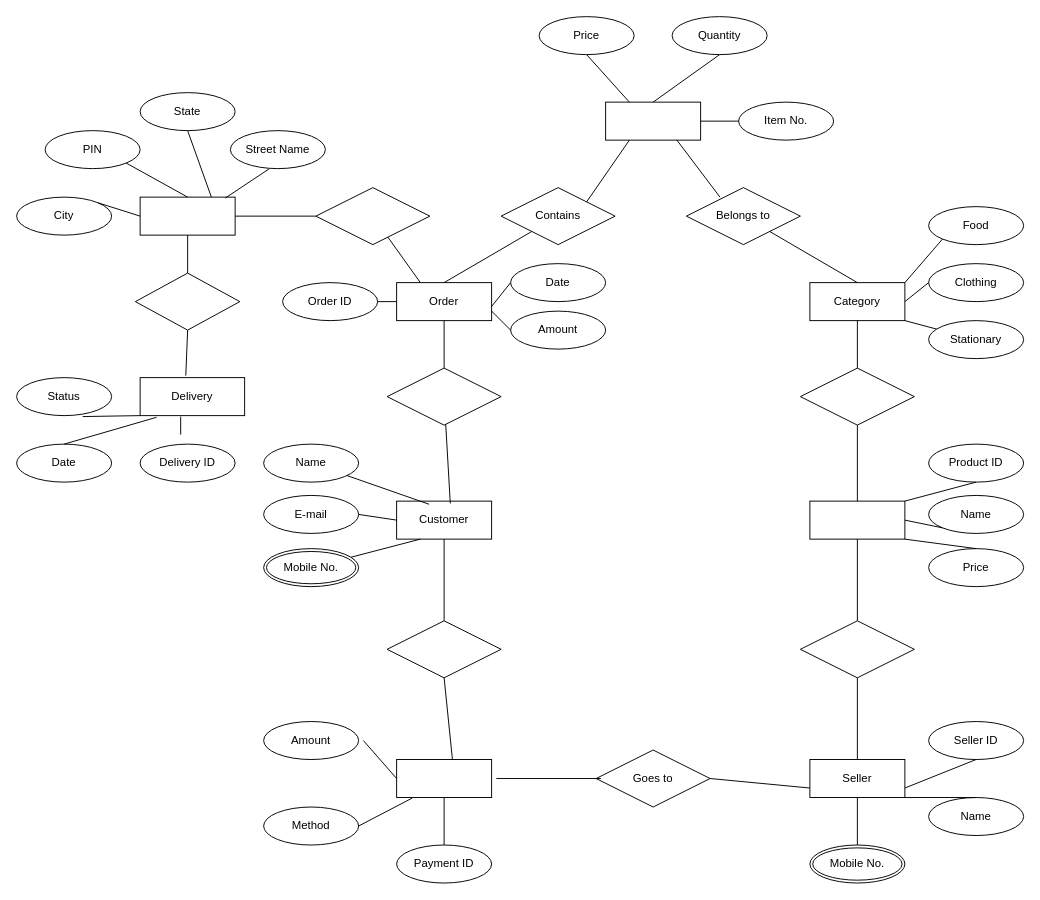
Some shapes in this 1040 by 900 pixel diagram are drawn without their labels. The shapes that lost their labels are listed below. From the top down, each one's box as (x1, y1, x2, y2) in pixels, then its label:
(605, 101, 701, 140): Order Item
(139, 196, 235, 235): Address
(315, 187, 430, 245): Needs
(134, 272, 240, 330): For
(386, 367, 501, 425): Places
(799, 367, 914, 425): Has
(809, 500, 905, 539): Product
(386, 620, 501, 678): Makes
(799, 620, 914, 678): Sells
(396, 759, 492, 798): Payment
